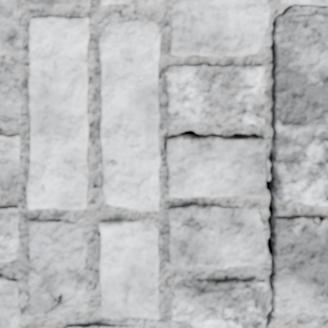brick: (27, 17, 88, 208), (100, 21, 159, 210), (274, 13, 327, 203), (169, 203, 266, 267), (165, 65, 265, 124), (167, 137, 265, 196), (100, 220, 157, 318), (28, 219, 85, 316), (171, 0, 268, 56), (274, 216, 327, 313), (171, 278, 267, 327), (0, 68, 21, 124), (0, 0, 21, 53), (0, 135, 19, 193), (0, 276, 19, 327), (0, 207, 18, 260), (102, 0, 155, 5), (32, 0, 89, 4), (67, 324, 138, 327), (279, 0, 327, 4), (316, 321, 327, 327)
crack: (264, 2, 327, 325), (163, 129, 259, 148), (44, 291, 77, 315), (303, 152, 327, 176), (312, 216, 327, 227), (315, 195, 327, 205)
